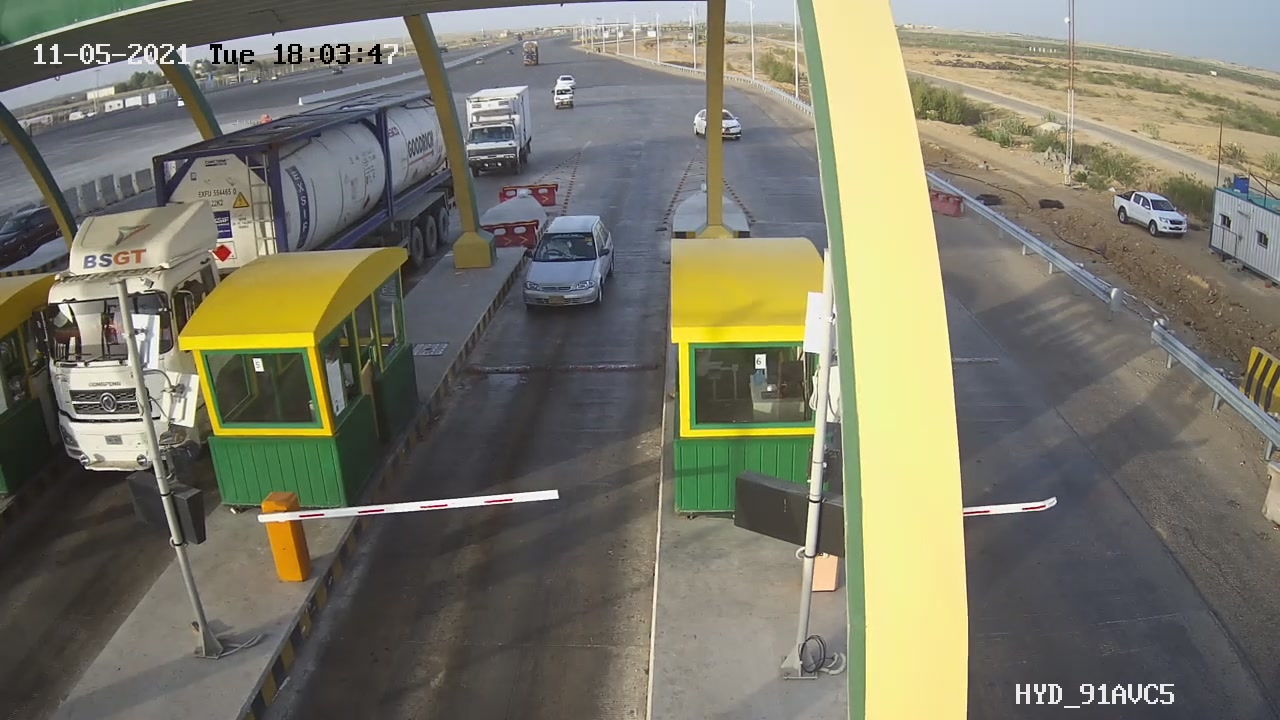F1: (494, 198, 639, 330)
